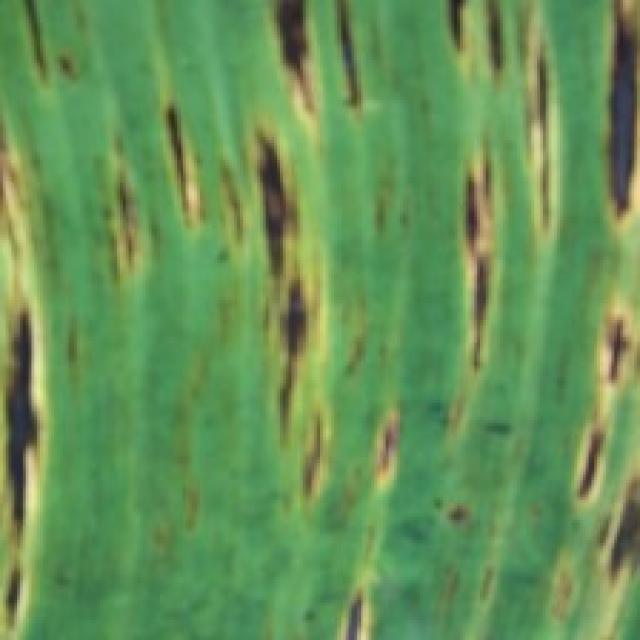Early_leaf_spot: (229, 82, 341, 500), (436, 136, 532, 434), (0, 144, 56, 637), (554, 403, 637, 640), (569, 0, 640, 254), (329, 403, 397, 640), (508, 11, 572, 255), (266, 0, 391, 123), (426, 0, 537, 101), (164, 344, 219, 530), (560, 280, 640, 405), (198, 126, 250, 286), (85, 137, 148, 259), (152, 91, 206, 233), (433, 548, 503, 635), (28, 0, 82, 93), (531, 527, 573, 621), (54, 301, 90, 388), (418, 488, 478, 538)
